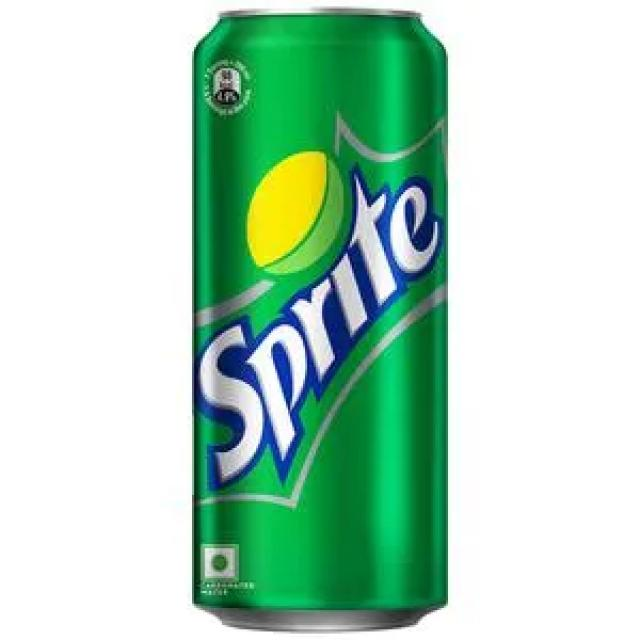aluminum_can: (194, 13, 448, 630)
